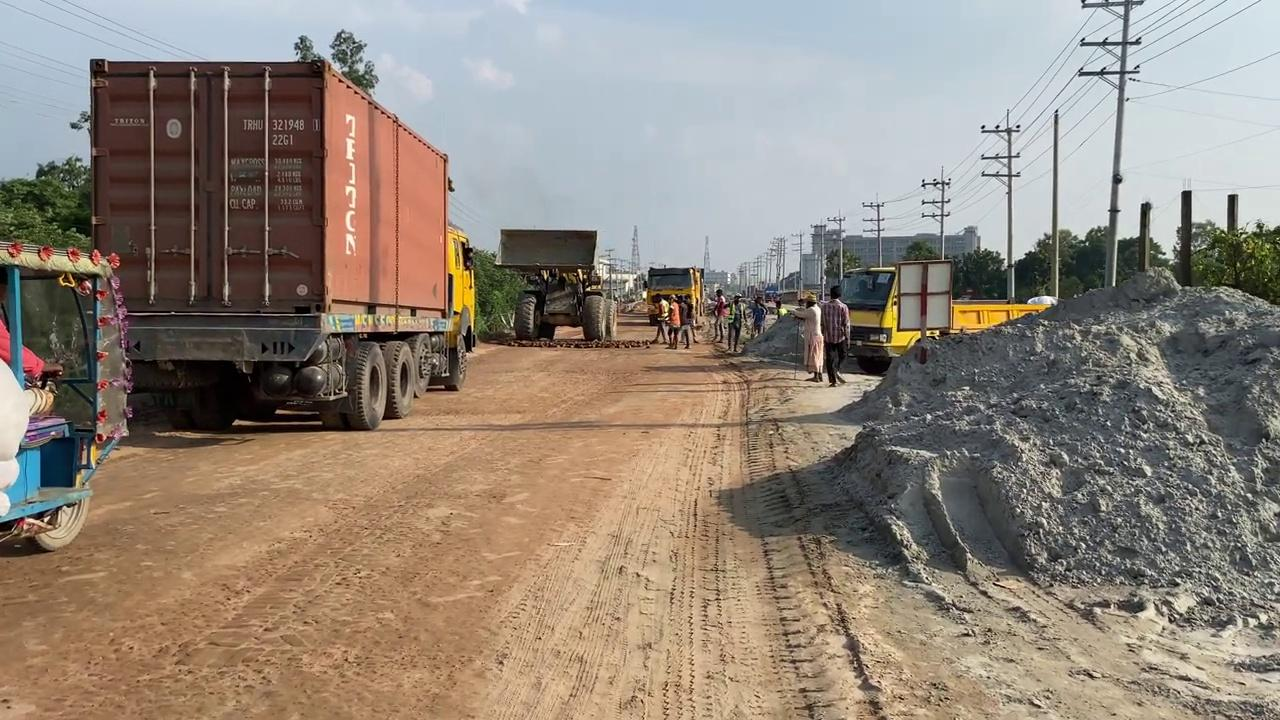Muddy road: (2, 304, 1276, 718)
Pole: (1077, 0, 1145, 288), (1049, 108, 1060, 299), (1178, 189, 1193, 285), (1226, 193, 1239, 286)
Traffic-sign: (292, 27, 378, 97)
Tree: (86, 56, 459, 431), (0, 239, 132, 552), (837, 258, 1054, 373), (493, 227, 617, 341), (949, 297, 1049, 335), (644, 265, 704, 326)
